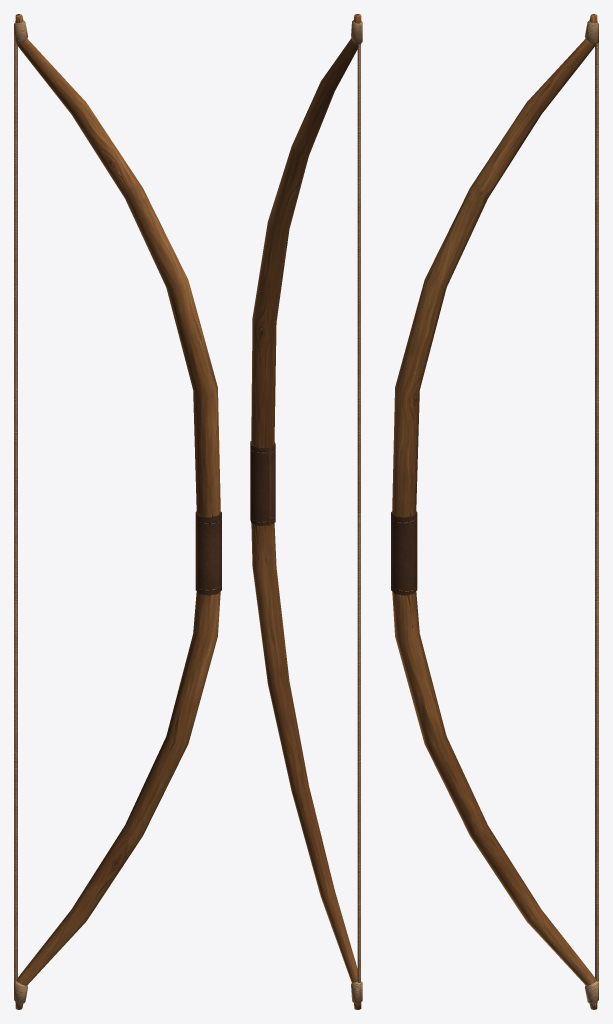
Rendered from Bow01.fbx.
The picture shows the model from 3 angles, left to right: view 1: azimuth 90°, elevation 25°; view 2: azimuth 210°, elevation 25°; view 3: azimuth 270°, elevation 25°; orthographic projection.
Parts seen in each view (by area): view 1: Bow01_LOD0; view 2: Bow01_LOD0; view 3: Bow01_LOD0.
Part boxes in pixels (x1,y1,x2,y2): Bow01_LOD0: (14,14,221,1009); Bow01_LOD0: (250,14,362,1009); Bow01_LOD0: (391,14,598,1009).
Size of what is drawn, in the model's own units: 0.035 by 1.46 by 0.2772.
